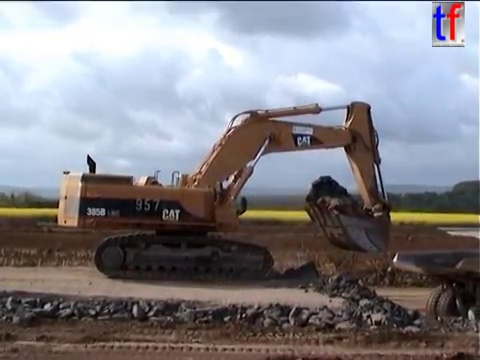excavator: (54, 98, 394, 284)
truck: (390, 246, 480, 336)
